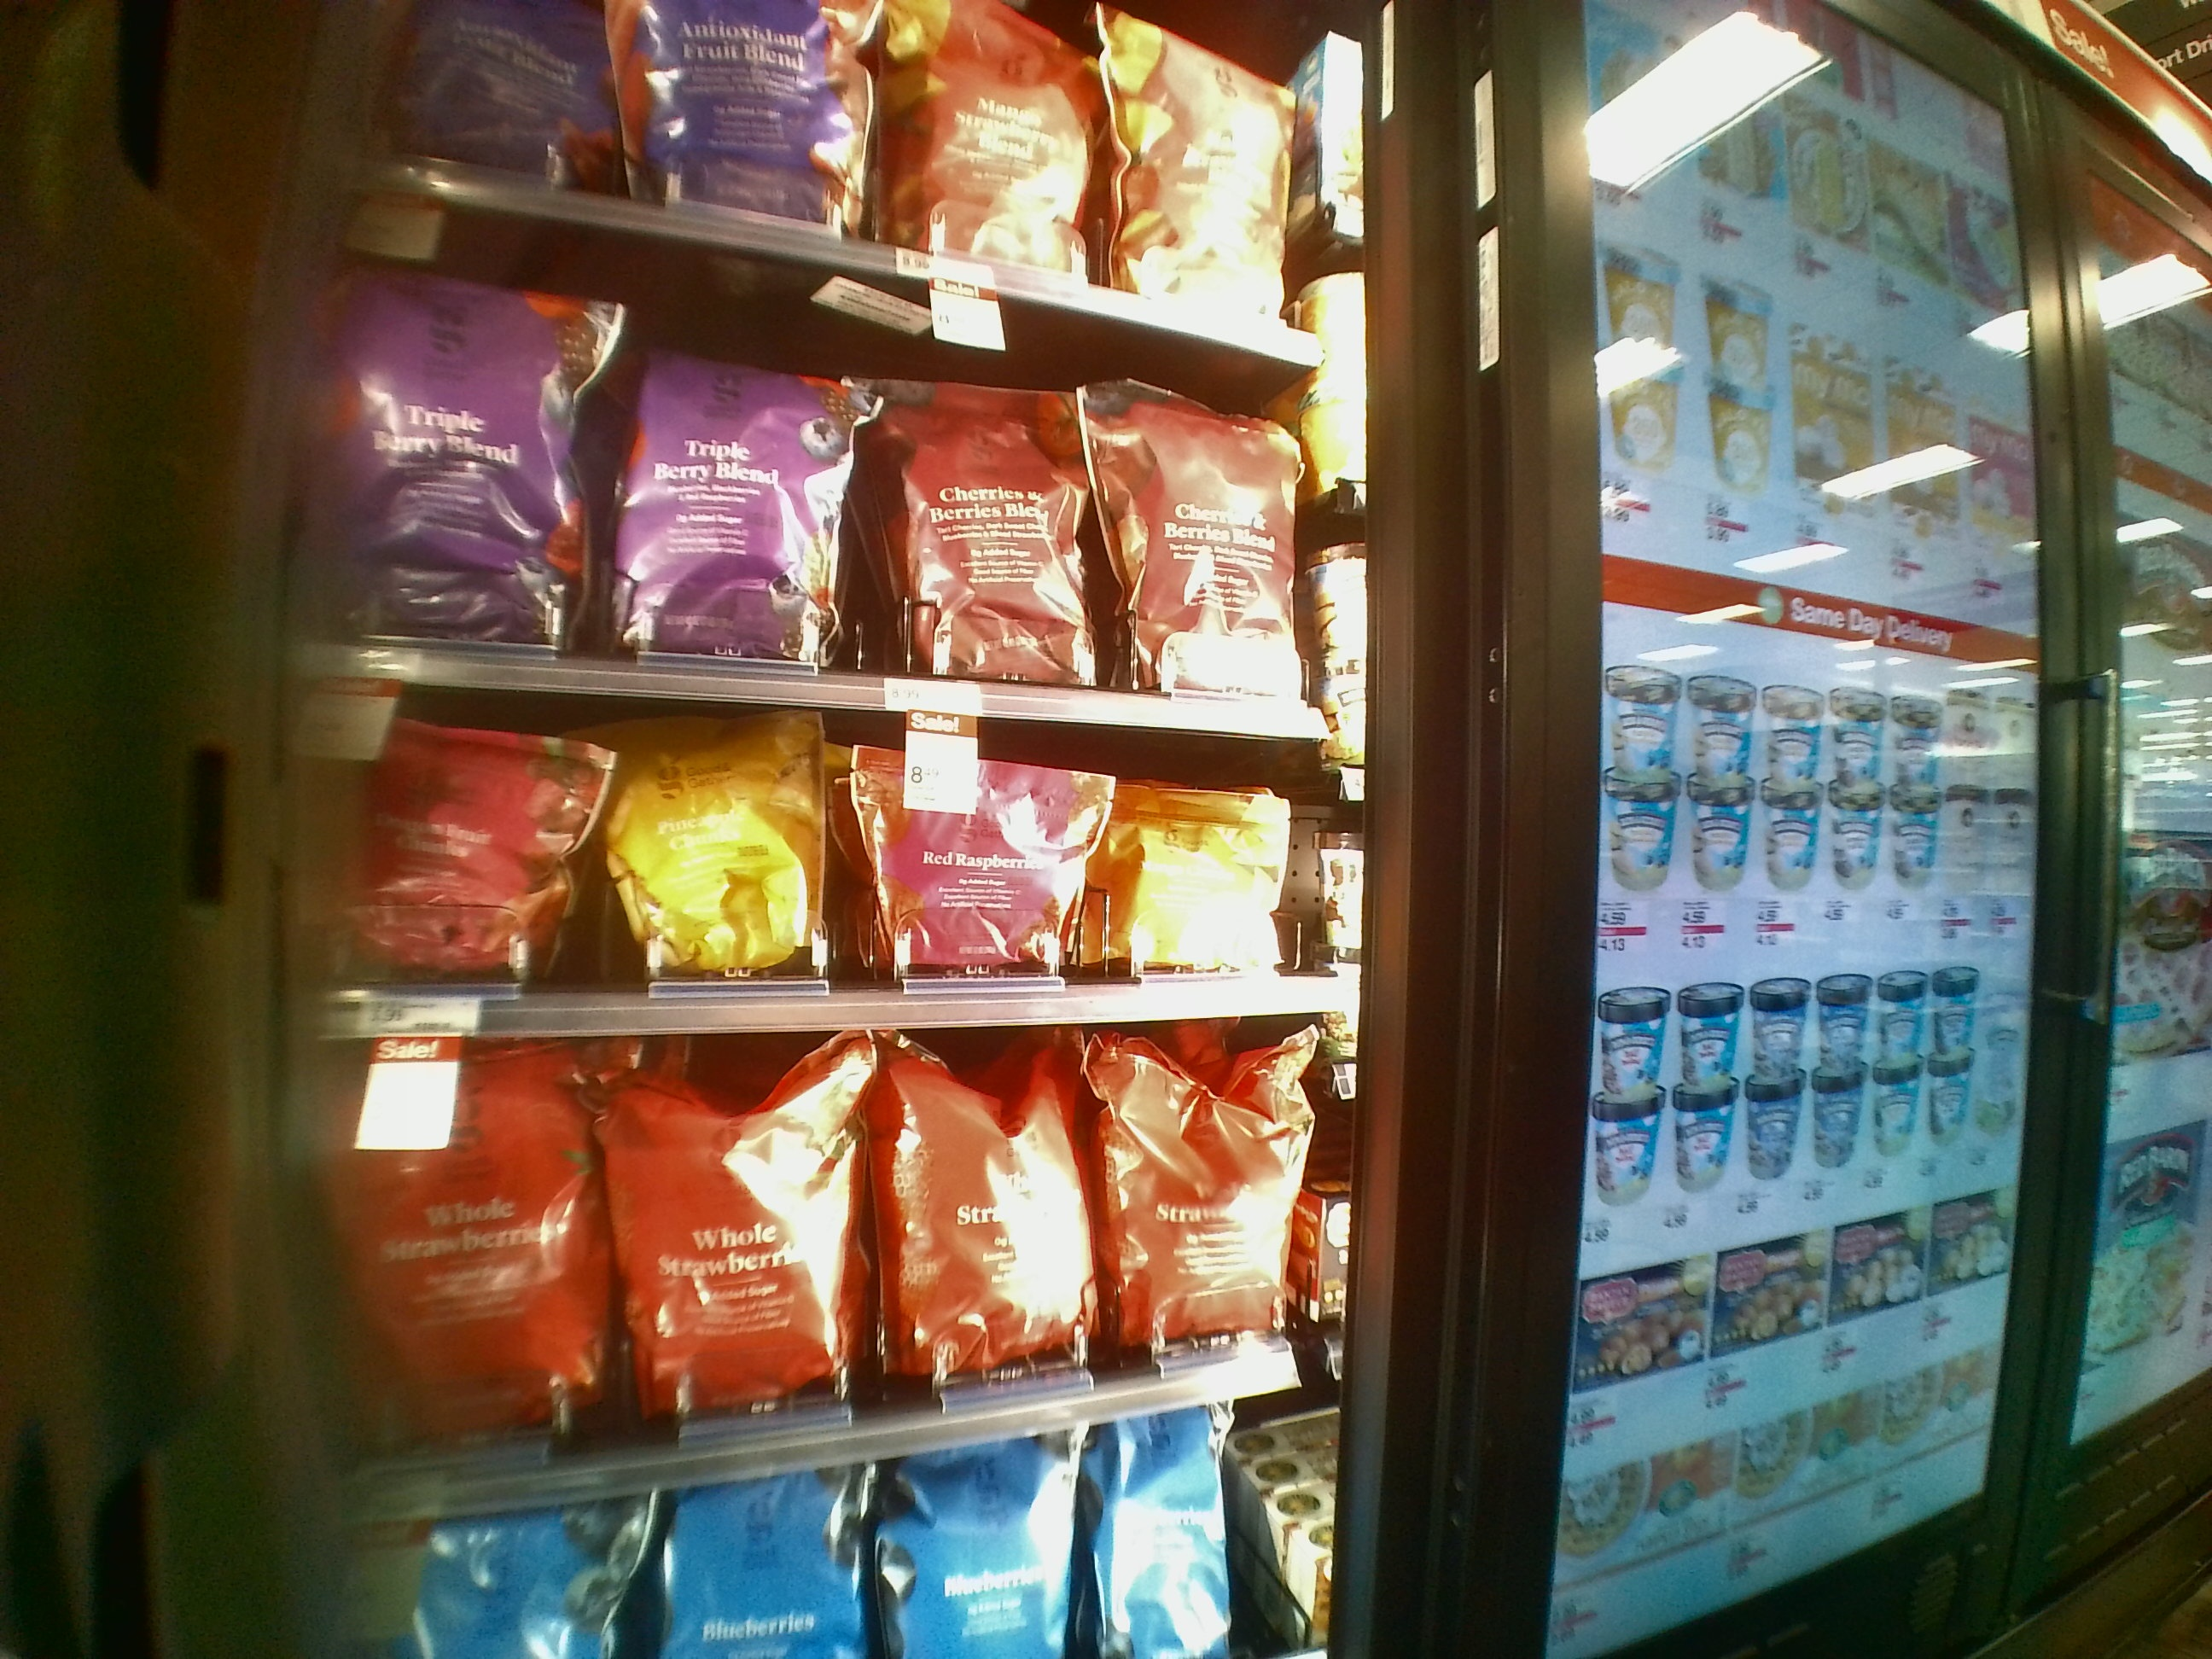shelf: (307, 291, 1339, 706), (327, 1032, 1346, 1452), (298, 694, 1346, 1025)
